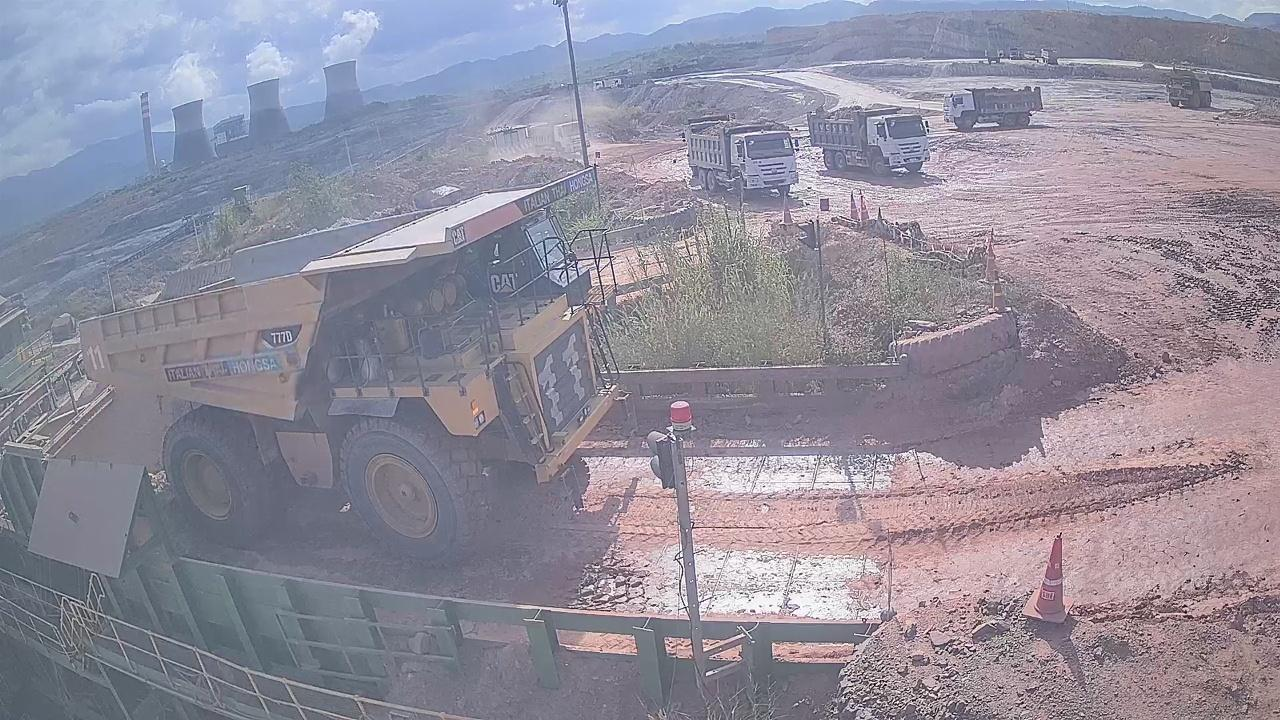company: (160, 351, 286, 387)
dumping_soil: (76, 159, 631, 563)
empty_load: (112, 172, 449, 290)
front_number: (523, 313, 607, 443)
tail_number: (81, 343, 108, 374)
truck_size: (259, 326, 302, 348)
